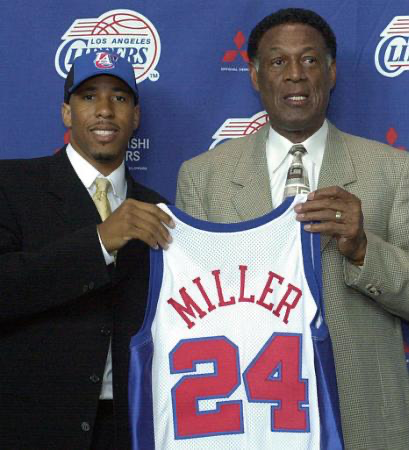Face: (261, 31, 327, 133), (71, 78, 134, 162)
